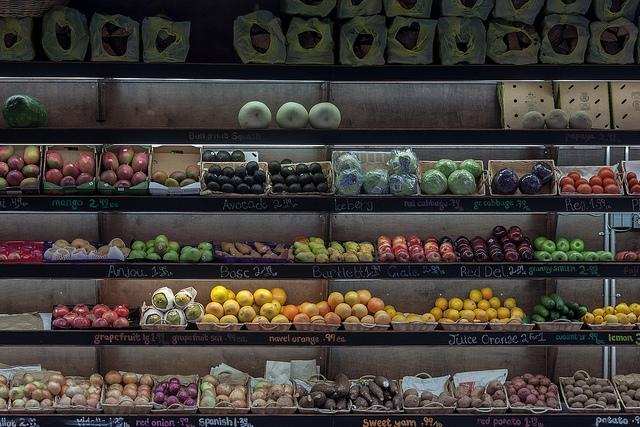apple: (540, 239, 556, 254), (154, 241, 170, 256), (554, 237, 570, 252), (52, 316, 70, 328), (186, 248, 201, 262), (509, 230, 524, 244), (536, 250, 553, 262), (112, 317, 130, 328), (394, 251, 410, 263), (534, 237, 548, 250), (570, 239, 584, 252), (520, 250, 535, 262), (454, 235, 470, 246), (392, 241, 408, 252), (460, 250, 474, 262), (490, 250, 504, 262), (442, 251, 457, 262), (505, 251, 520, 262), (458, 246, 474, 256), (426, 252, 442, 262), (486, 236, 499, 248), (200, 250, 213, 262), (380, 251, 394, 262), (508, 226, 522, 237), (378, 246, 393, 256), (423, 236, 438, 246), (553, 251, 568, 261), (406, 236, 421, 246), (439, 246, 454, 256), (410, 246, 424, 256), (472, 236, 486, 246), (411, 252, 425, 262), (392, 235, 406, 245), (474, 252, 488, 262), (568, 252, 583, 261), (598, 252, 614, 260), (584, 252, 600, 260), (377, 242, 391, 251), (518, 246, 532, 254), (439, 242, 453, 250), (488, 248, 502, 256), (622, 252, 636, 260), (500, 236, 510, 246), (180, 252, 188, 261), (620, 252, 628, 260), (566, 251, 572, 255)
avocado: (268, 160, 282, 176), (280, 166, 297, 179), (298, 174, 312, 189), (286, 174, 300, 188), (296, 163, 310, 177), (221, 166, 235, 180), (208, 164, 222, 178), (230, 177, 243, 192), (242, 175, 255, 190), (246, 160, 258, 176), (216, 150, 232, 162), (270, 174, 284, 187), (309, 162, 322, 175), (231, 150, 245, 162), (202, 150, 216, 162), (312, 173, 324, 187), (253, 170, 266, 182), (217, 176, 231, 187), (236, 166, 247, 180), (205, 173, 218, 184), (220, 183, 234, 193), (250, 184, 264, 194), (273, 183, 287, 193), (207, 182, 221, 192), (236, 184, 250, 194), (302, 184, 316, 193), (288, 184, 302, 192), (316, 184, 329, 192), (280, 158, 293, 164)
cucumber: (550, 294, 564, 310), (572, 306, 587, 320), (534, 305, 550, 317), (541, 296, 555, 309), (532, 314, 546, 322), (564, 302, 578, 310), (558, 304, 568, 314), (565, 310, 575, 320), (550, 310, 560, 320)
onion: (65, 384, 85, 398), (269, 384, 285, 401), (105, 370, 122, 386), (23, 383, 39, 398), (215, 383, 232, 397), (49, 374, 66, 388), (253, 380, 272, 392), (47, 380, 61, 396), (215, 394, 231, 408), (276, 395, 294, 407), (84, 310, 98, 325), (122, 387, 137, 401), (90, 373, 104, 388), (122, 371, 138, 384), (200, 388, 217, 400), (22, 372, 36, 386), (251, 390, 267, 402), (71, 394, 87, 406), (235, 384, 248, 398), (167, 395, 180, 409), (226, 399, 246, 408), (200, 396, 216, 407), (185, 386, 198, 399), (168, 382, 180, 396), (32, 388, 44, 402), (107, 388, 122, 399), (280, 384, 293, 396), (137, 389, 151, 400), (137, 384, 151, 395), (85, 398, 99, 408), (57, 396, 71, 406), (252, 398, 267, 406), (0, 386, 9, 399), (120, 397, 134, 405), (78, 381, 90, 390), (18, 385, 26, 396), (155, 385, 165, 393), (0, 375, 8, 385), (188, 383, 198, 390)
orange: (252, 288, 272, 306), (210, 286, 229, 304), (302, 303, 320, 320), (334, 303, 352, 320), (238, 306, 256, 322), (368, 297, 384, 314), (351, 304, 368, 320), (344, 291, 361, 307), (316, 300, 331, 318), (328, 292, 344, 308), (356, 290, 372, 306), (282, 304, 298, 320), (469, 289, 483, 303), (325, 313, 341, 325), (375, 313, 391, 325), (488, 296, 501, 310), (485, 308, 498, 321), (430, 307, 442, 321), (504, 298, 516, 312), (462, 310, 476, 322), (420, 313, 436, 323), (435, 298, 448, 310), (450, 298, 462, 311), (384, 308, 396, 320), (480, 288, 492, 300), (511, 310, 524, 320), (463, 300, 476, 310), (497, 308, 510, 318), (252, 302, 262, 315), (478, 300, 490, 310), (310, 316, 325, 324), (392, 316, 408, 322), (408, 316, 423, 322), (474, 309, 483, 318), (489, 318, 500, 324)
potato: (486, 380, 502, 396), (453, 386, 470, 400), (404, 394, 419, 408), (348, 385, 361, 399), (517, 388, 531, 400), (574, 394, 588, 404), (526, 394, 538, 405), (421, 391, 433, 401), (470, 399, 483, 408), (546, 400, 560, 408), (626, 390, 636, 400), (596, 380, 608, 388), (583, 390, 593, 399), (596, 400, 607, 408), (622, 395, 632, 403), (619, 381, 629, 388), (581, 385, 590, 392), (538, 395, 546, 402), (536, 375, 544, 380), (522, 400, 528, 406)
